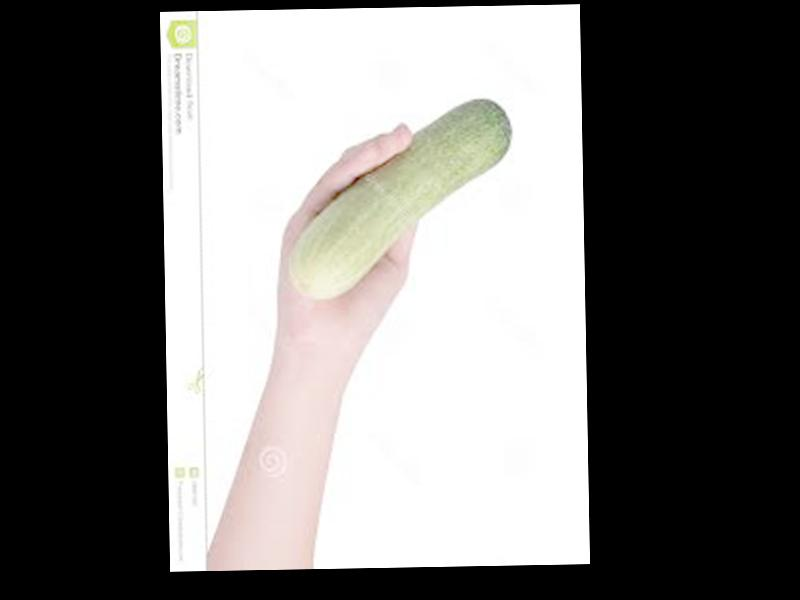Cucumber: (287, 101, 513, 299)
